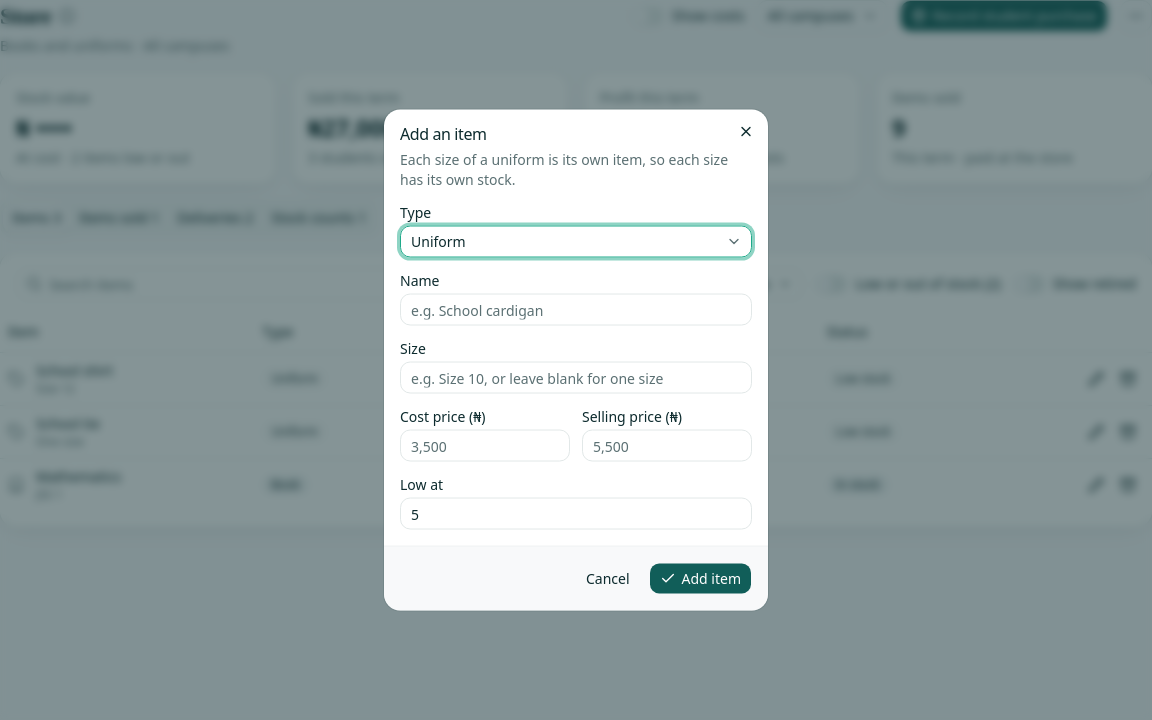
StorePage › refuses a selling price below cost when adding an item
Type "School cardigan" into the field labelled "Name" at [576, 310], box [400,294,752,326]
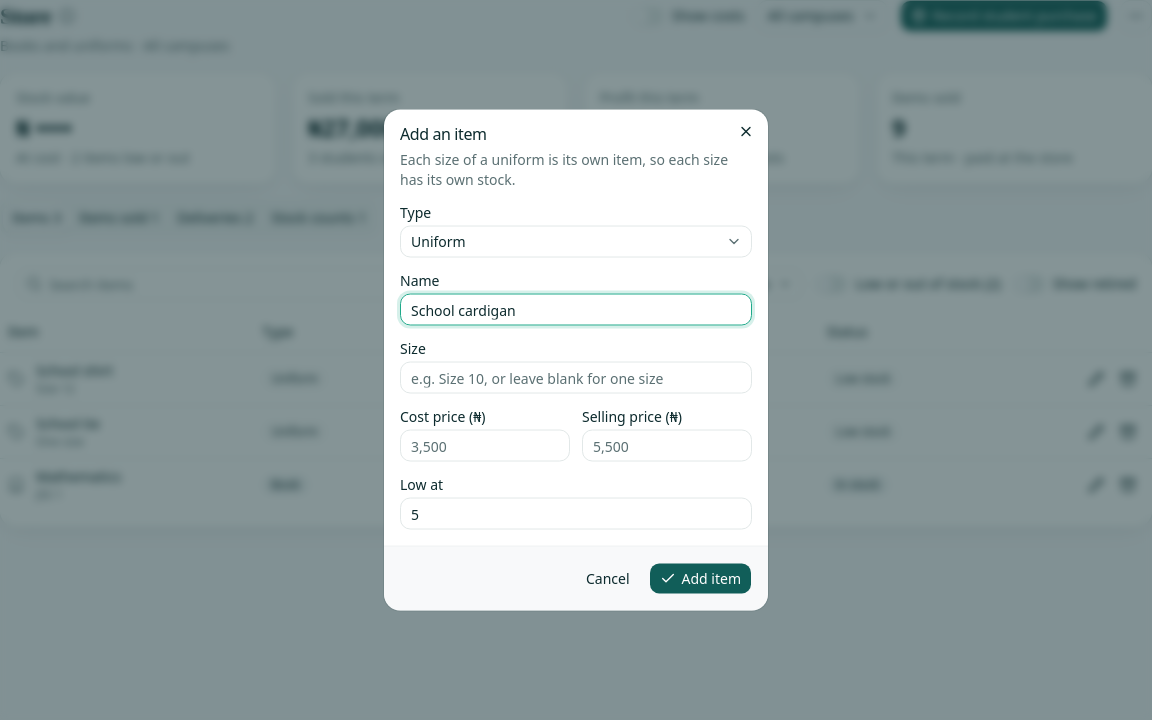
Type "5000" into the field labelled "Cost price (₦)" at [485, 446], box [400,430,570,462]
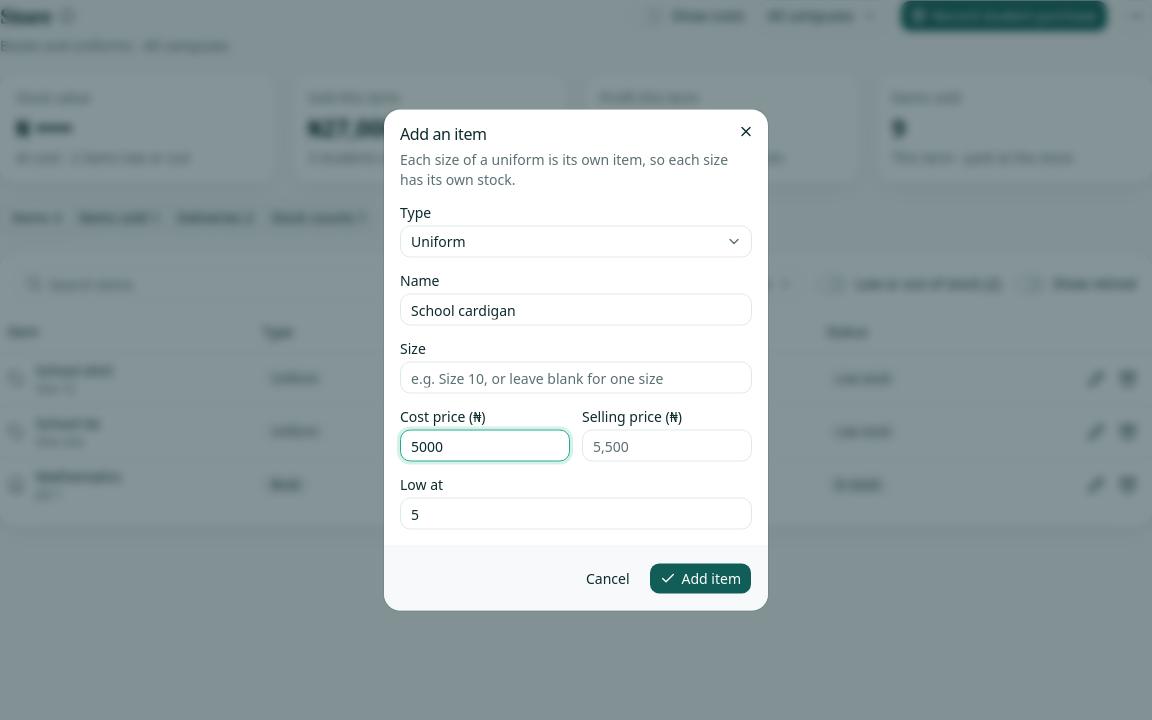
Type "3000" into the field labelled "Selling price (₦)" at [667, 446], box [582,430,752,462]
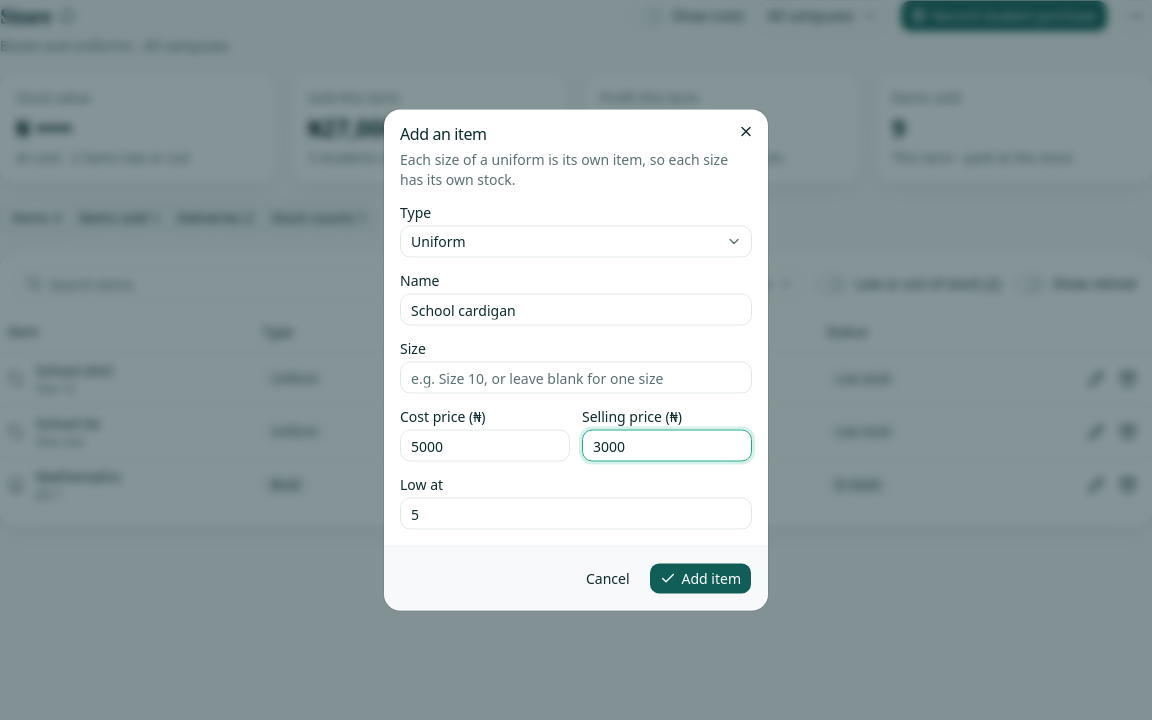
Click the button "Add item" at [700, 578], box [648,562,752,594]
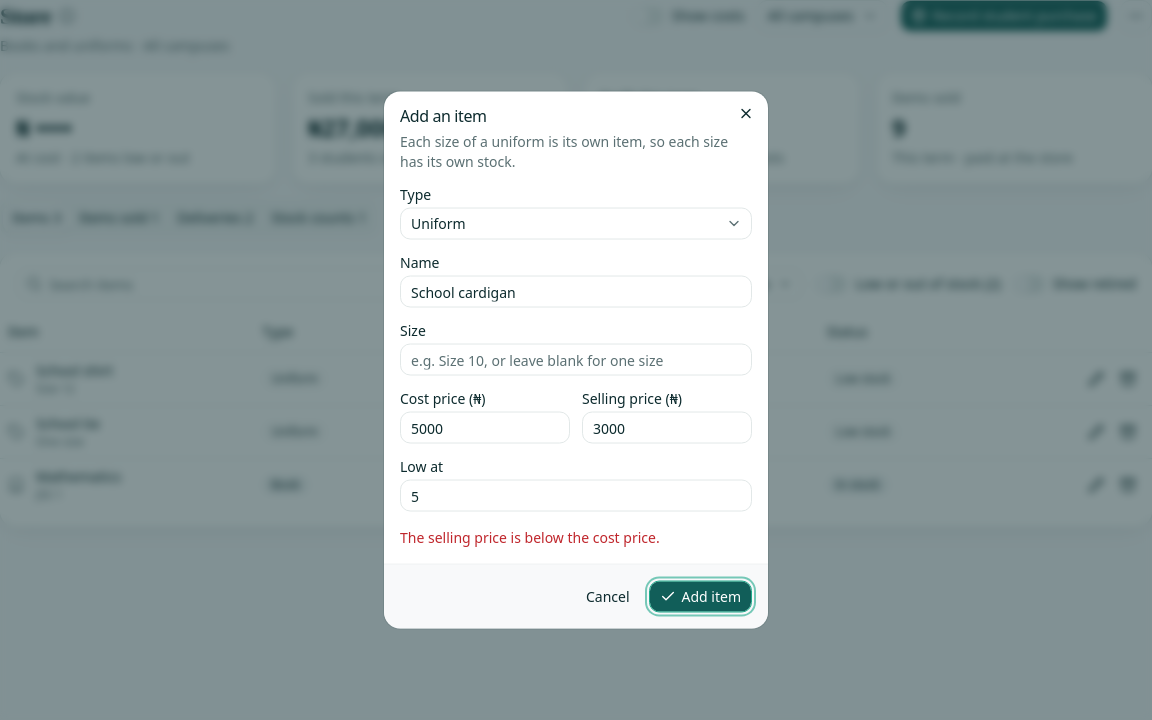
Check: the text "The selling price is below the cost price." is shown, box [400,528,660,546]
